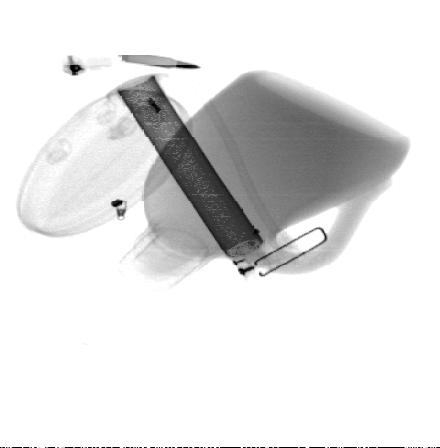Bullet: (117, 48, 206, 70)
